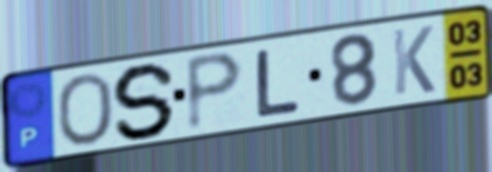8: (328, 30, 379, 109)
K: (389, 23, 438, 98)
L: (253, 46, 302, 120)
O: (54, 70, 116, 149)
P: (183, 49, 247, 135)
S: (109, 61, 181, 142)
